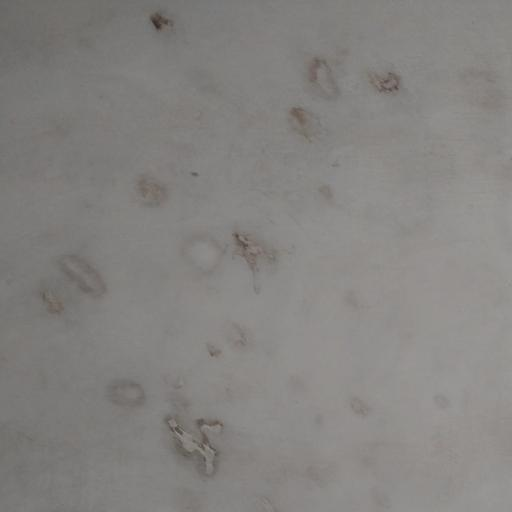stain: (43, 9, 432, 512)
